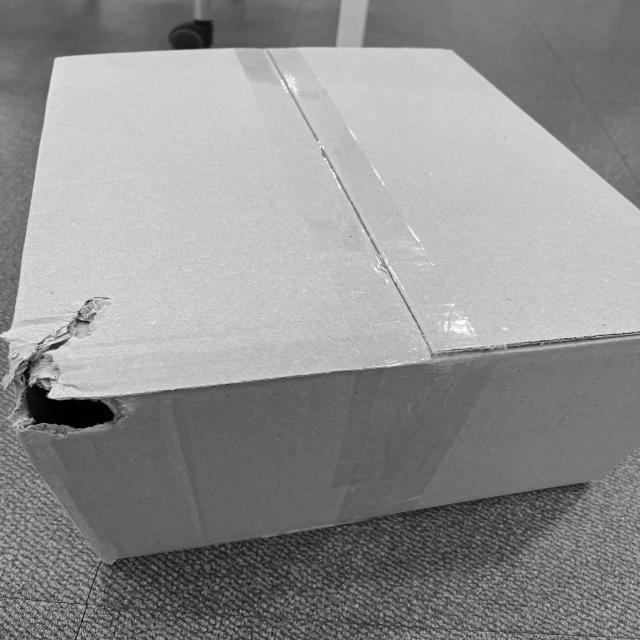hole: (21, 299, 135, 453)
